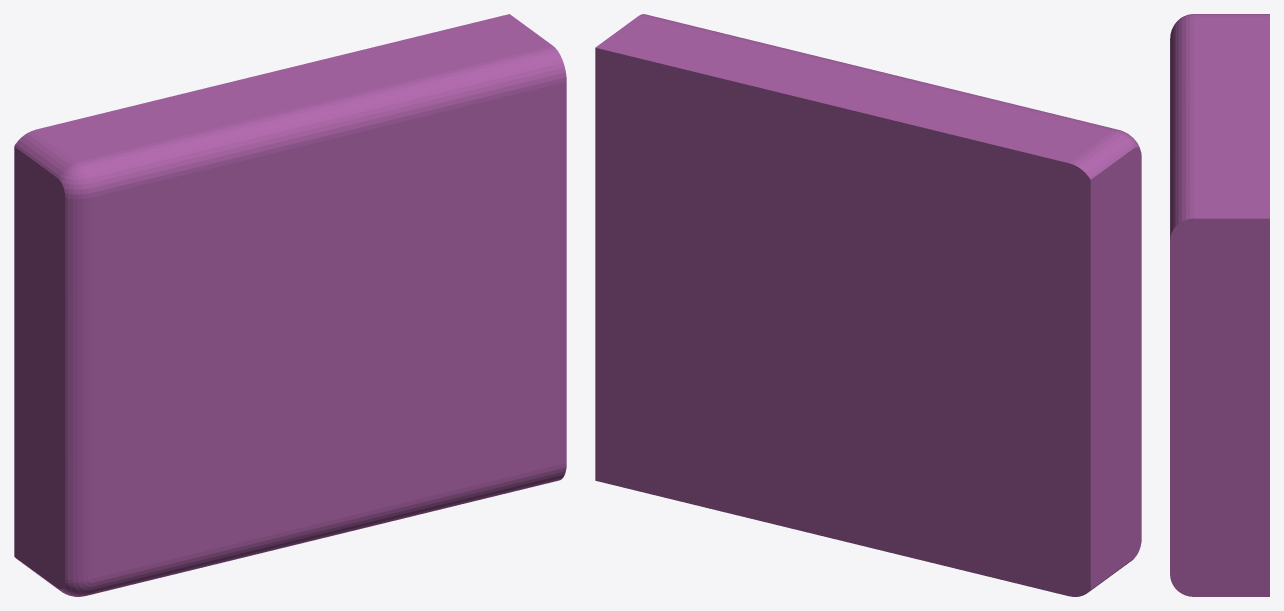
3 views of the same model, side by side, from view 1: azimuth 30°, elevation 25°; view 2: azimuth 150°, elevation 25°; view 3: azimuth 270°, elevation 25° (orthographic). The views are drawn at different scales.
Parts seen in each view (by area): view 1: decomp_7.obj; view 2: decomp_7.obj; view 3: decomp_7.obj.
Boxes of the visible parts, x1,y1,x2,y2 form: decomp_7.obj: [14, 14, 566, 596]; decomp_7.obj: [595, 14, 1141, 596]; decomp_7.obj: [1170, 14, 1269, 596].
Size of the model in its own units: 0.0431 by 0.036 by 0.00862.
